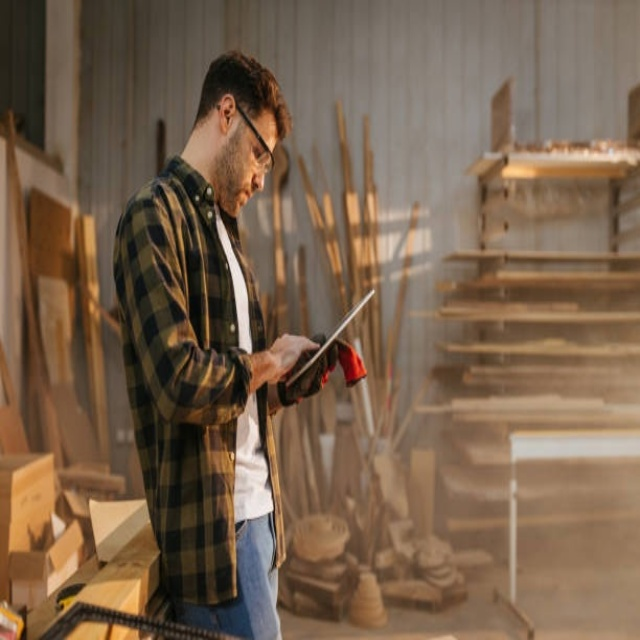Gafas: (222, 100, 274, 170)
Sin_guantes: (266, 332, 322, 394)
Sin_mascara: (228, 180, 259, 215)
